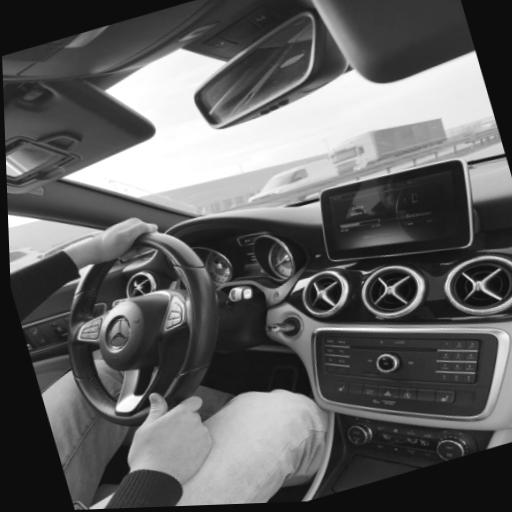Hands-on-the-Wheel: (46, 187, 208, 294)
